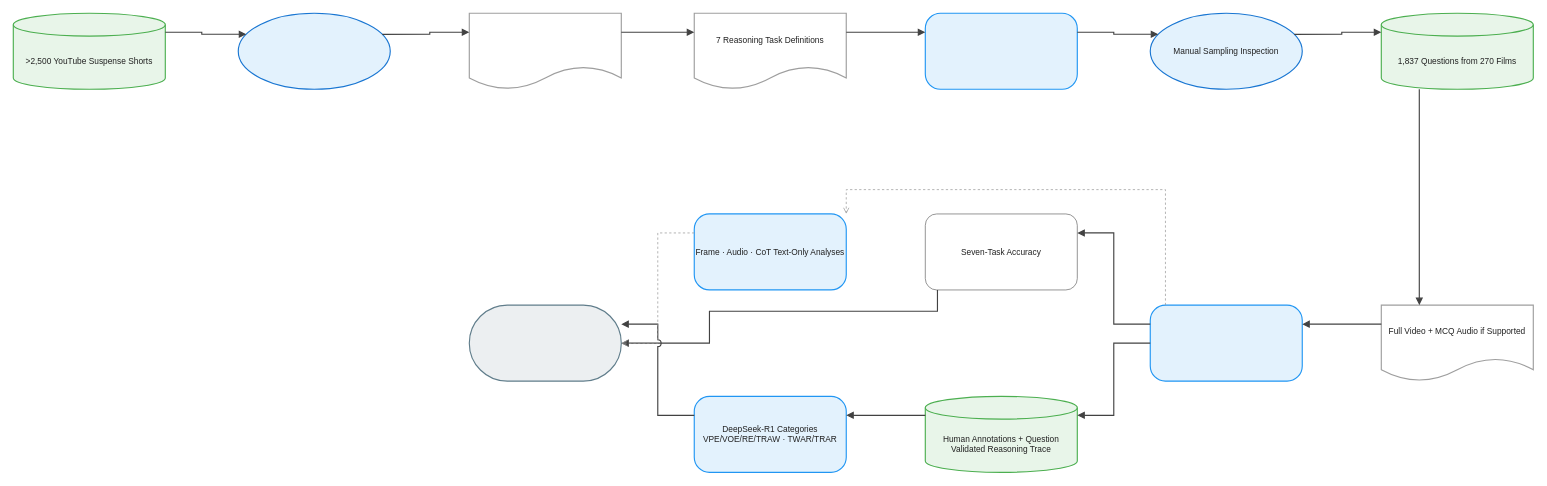
The diagram is 1547 pixels wide and 486 high, and some of its shapes have lost their labels. Here are the shapes that lost their labels. From the top down, the box of each, then its label:
(237, 12, 390, 90): Manual Curation 270 Films
(468, 12, 622, 90): Structured Manual Annotations Plot · Relations · Clues · Theme
(924, 12, 1078, 90): DeepSeek-R1 Generates QA + Explanations
(468, 304, 622, 381): Accuracy + Reasoning Diagnostic Report
(1149, 304, 1302, 381): Model Answer + CoT Trace
